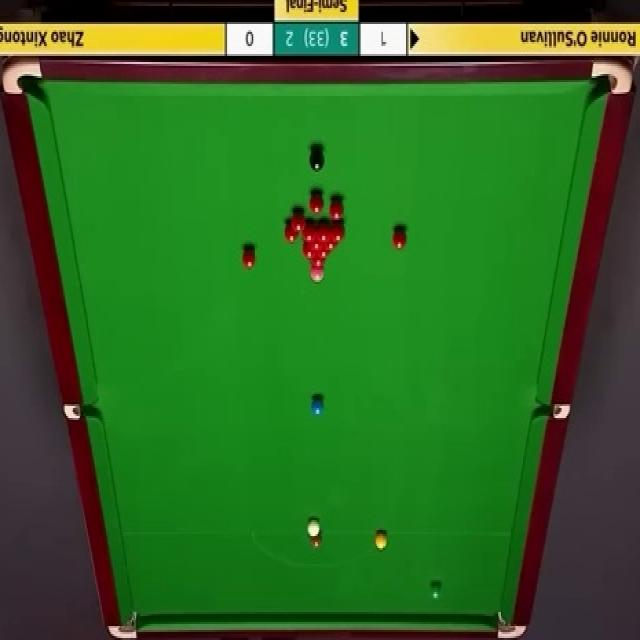black-ball: (308, 146, 324, 172)
blue-ball: (311, 397, 324, 416)
brown-ball: (310, 530, 323, 549)
green-ball: (430, 582, 442, 600)
pink-ball: (311, 272, 325, 284)
red-ball: (392, 225, 408, 250), (309, 191, 324, 215), (328, 198, 344, 220), (301, 220, 316, 243), (242, 245, 256, 269), (331, 222, 346, 244), (284, 220, 298, 243), (292, 210, 306, 232), (317, 222, 331, 244), (302, 244, 315, 260), (310, 260, 328, 270), (316, 250, 332, 260), (308, 243, 324, 251), (324, 242, 338, 251)
white-ball: (307, 516, 320, 536)
yellow-ball: (376, 531, 388, 549)
